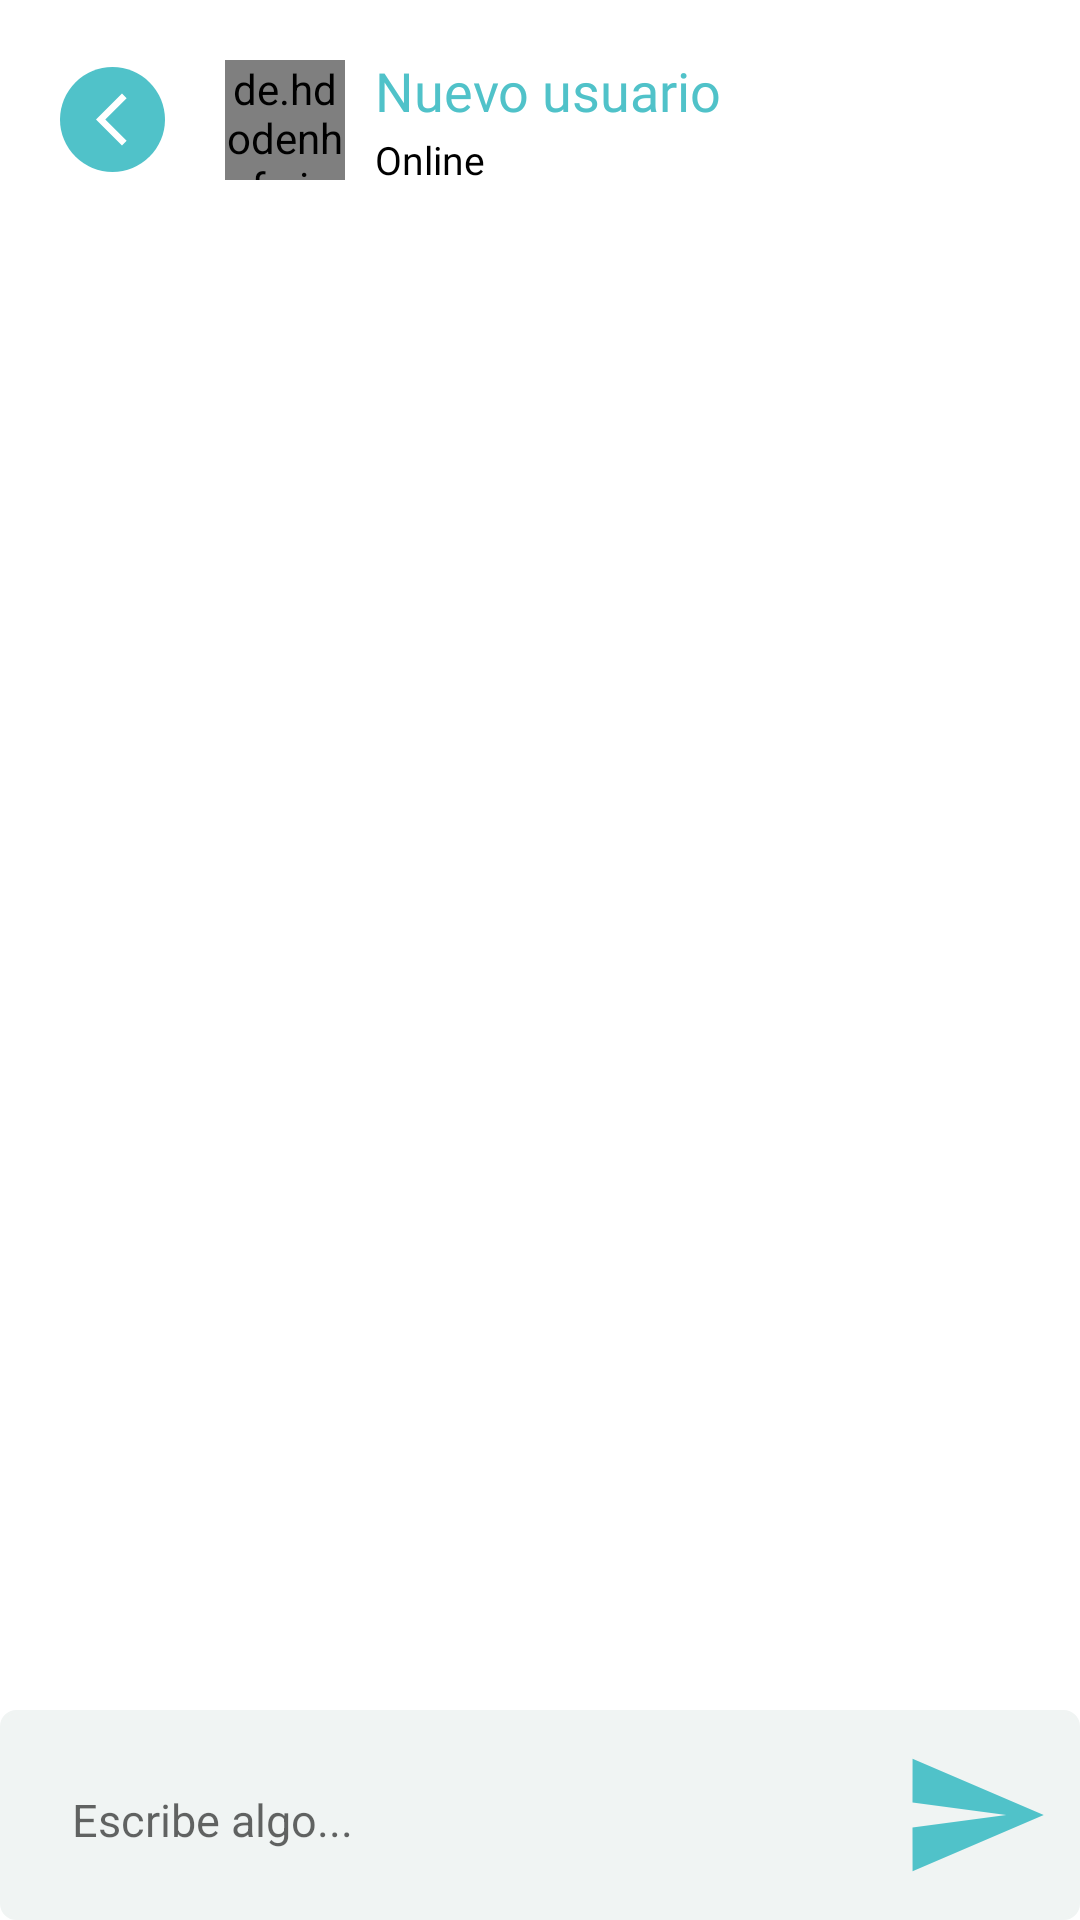

Icons on this 1080w x 1920h Android screen, each with its box as (x1, y1, x2, y2):
back: (60, 67, 165, 172)
send: (912, 1759, 1043, 1871)
